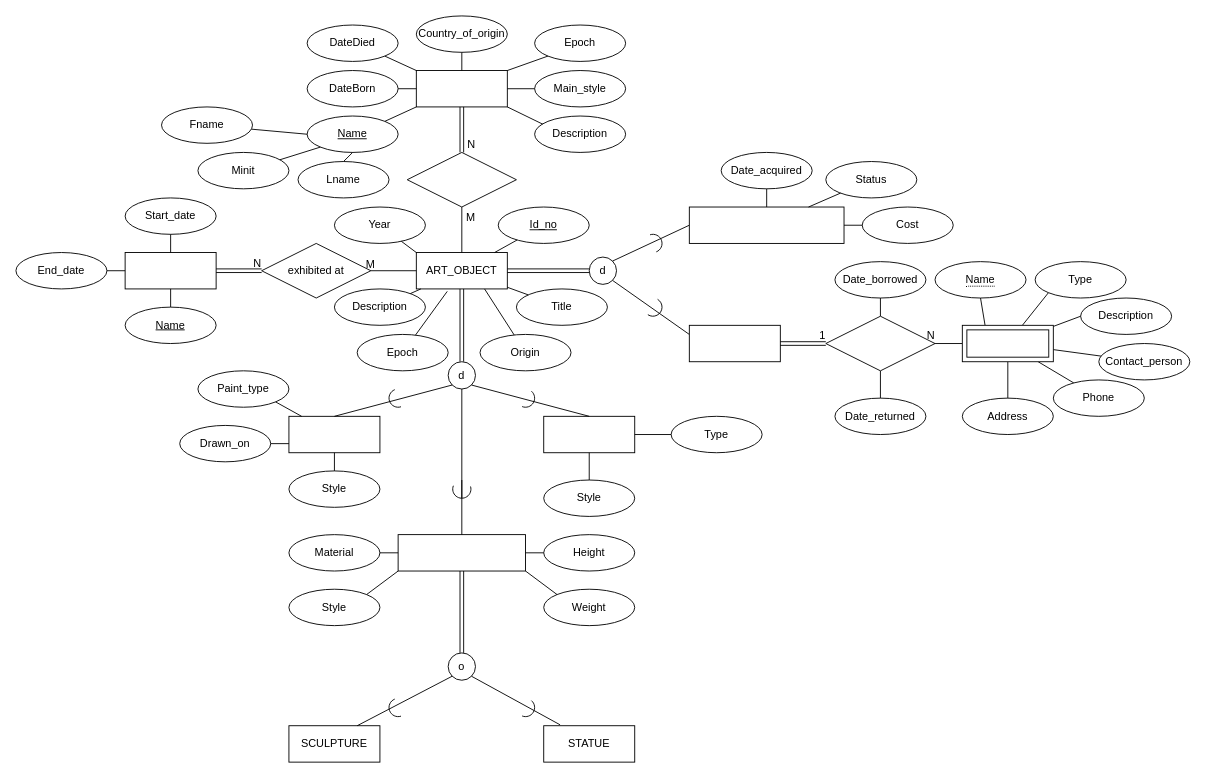
Some shapes in this 1206 by 778 pixel diagram are drawn without their labels. The shapes that lost their labels are listed below. From the top down, each one's centre as x and y in pixels, then its label:
the point at 461,88: ARTIST
the point at 461,179: creates
the point at 766,224: PERMANENT_COLLECTION
the point at 170,270: EXHIBITION
the point at 734,343: BORROWED
the point at 880,343: borrowed from
the point at 1007,343: COLLECTION
the point at 334,434: PAINTING
the point at 589,434: OTHER
the point at 461,552: SCULPTURE_TYPE
